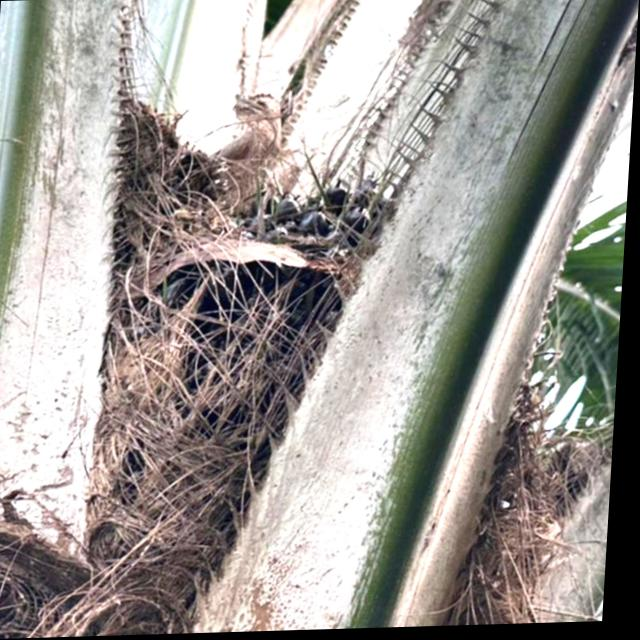unripe: (81, 137, 403, 602)
